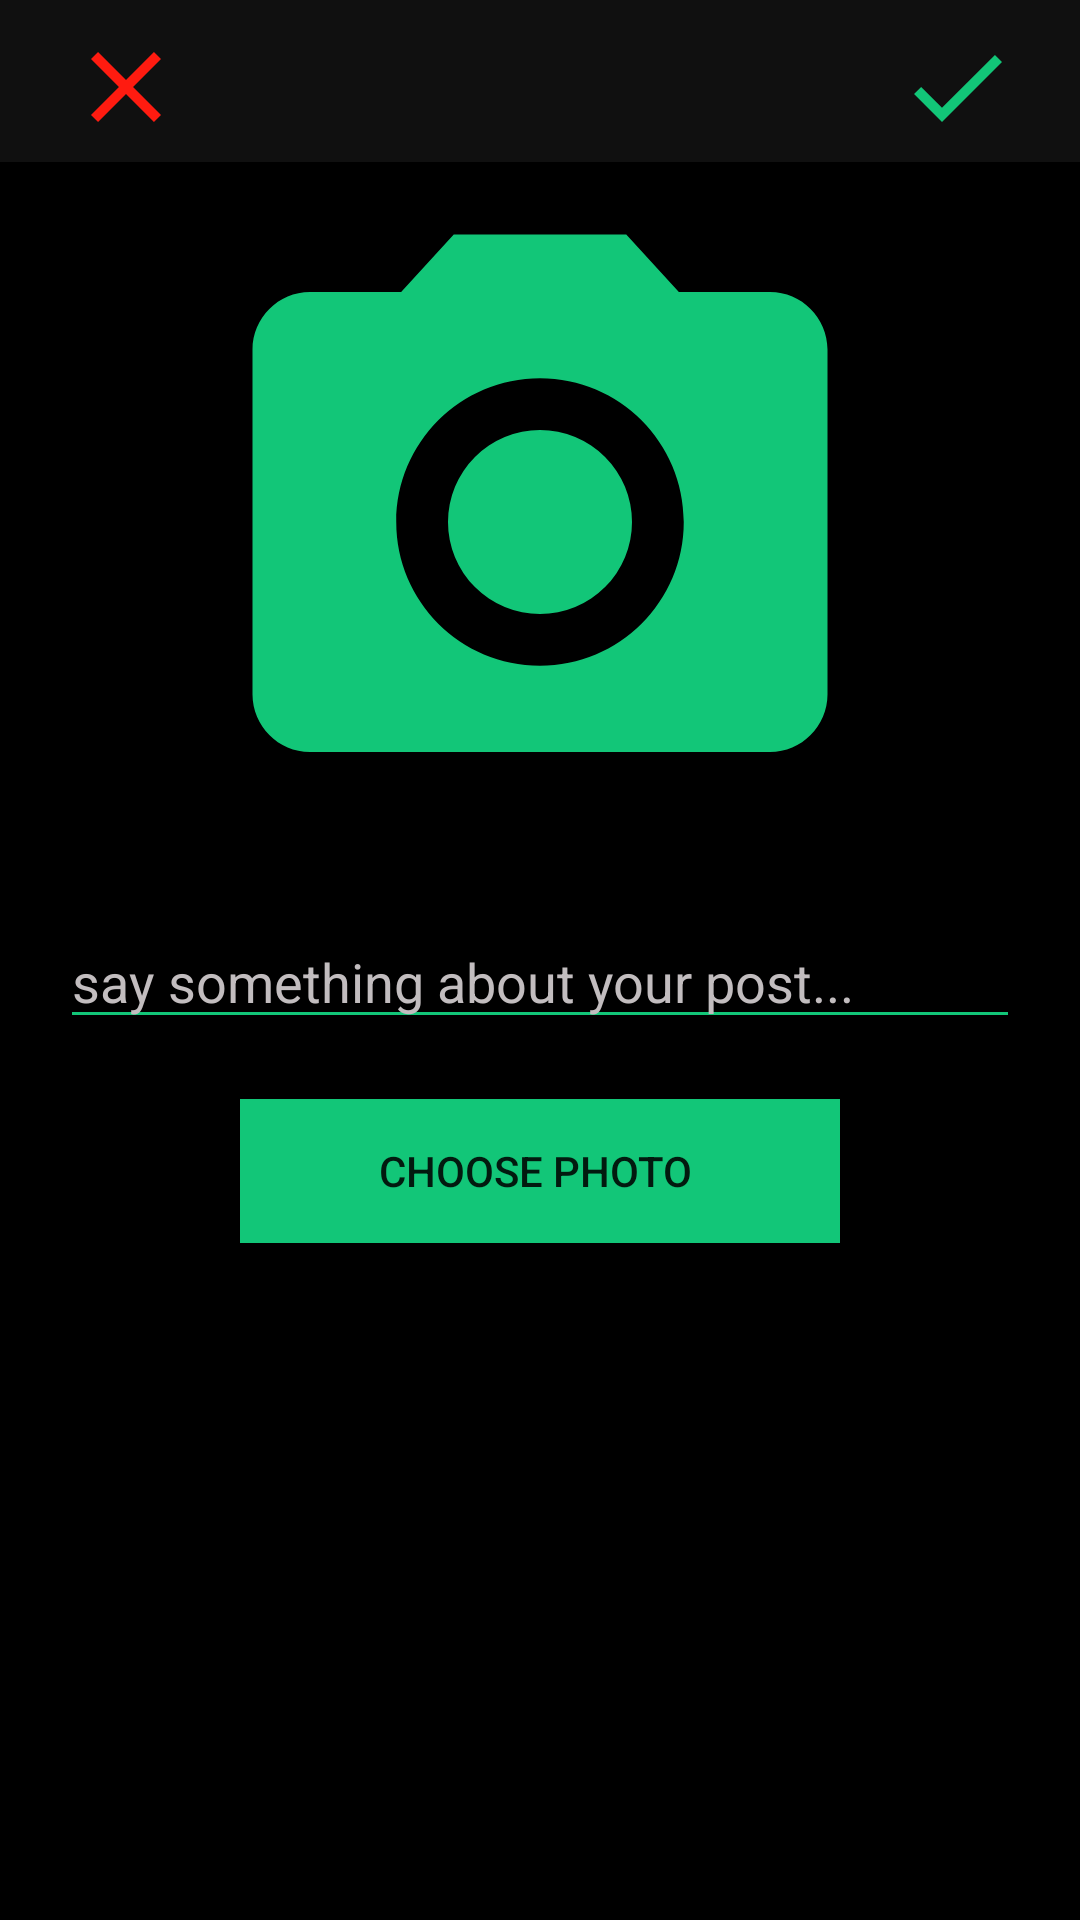

Icons on this 1080 × 1920 Android screen, each with the point to tap as [x,y]:
check: [958,88]
close: [126,87]
